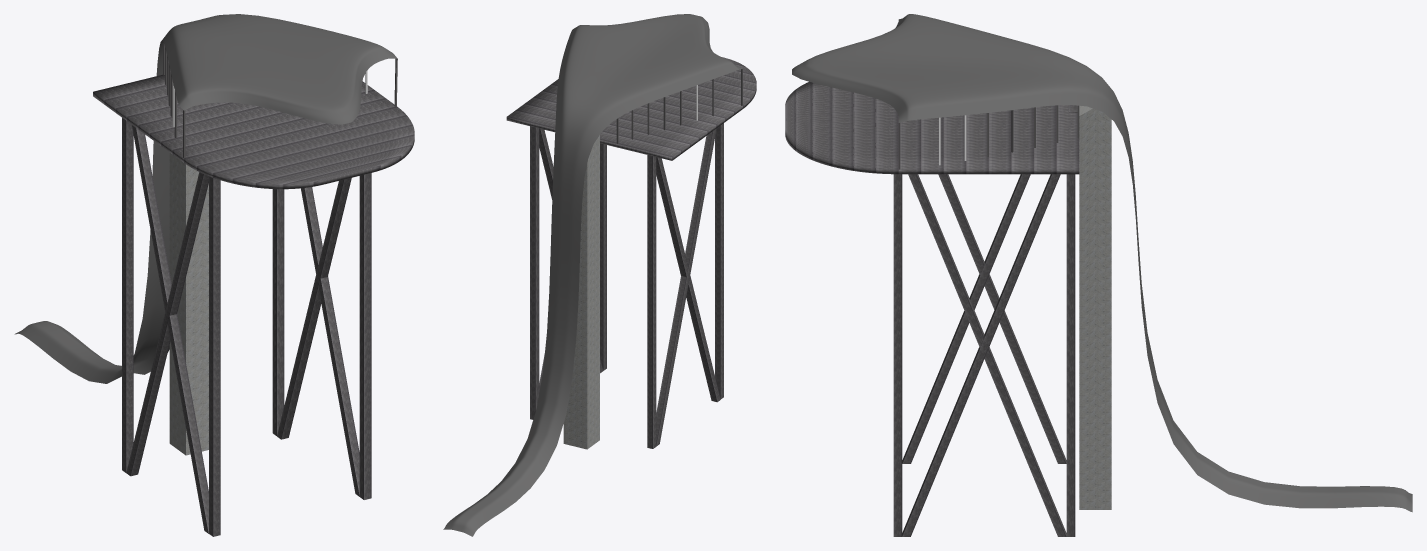
The model's file is StartTower.obj.
The picture shows the model from 3 angles, left to right: view 1: azimuth 30°, elevation 25°; view 2: azimuth 150°, elevation 25°; view 3: azimuth 270°, elevation 25°; orthographic projection. The views are drawn at different scales.
Size of the model in its own units: 1.39 by 2.78 by 3.56.
